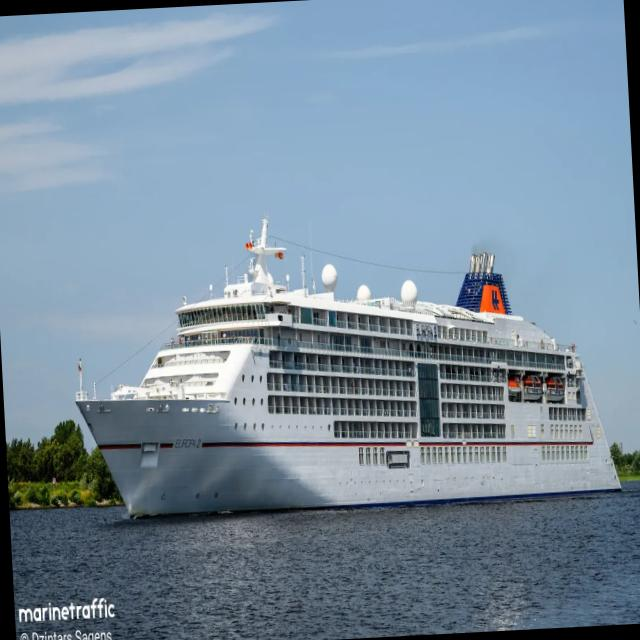Cruise: (76, 218, 620, 515)
